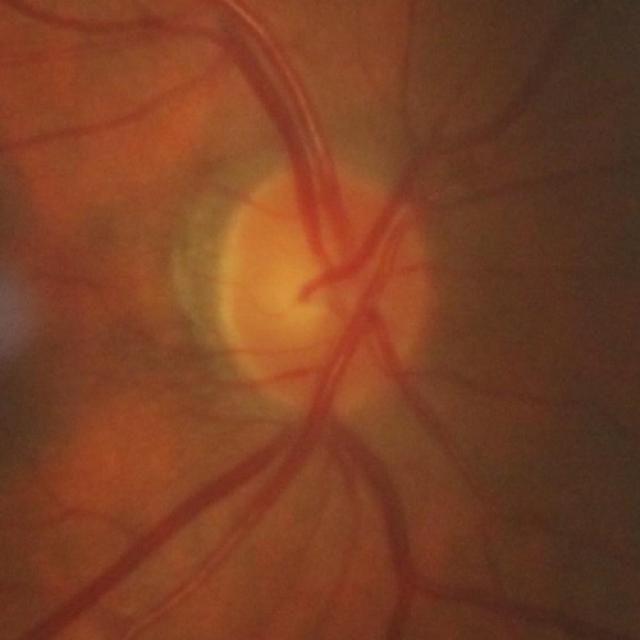OC: (268, 257, 334, 336)
OD: (223, 167, 423, 418)
